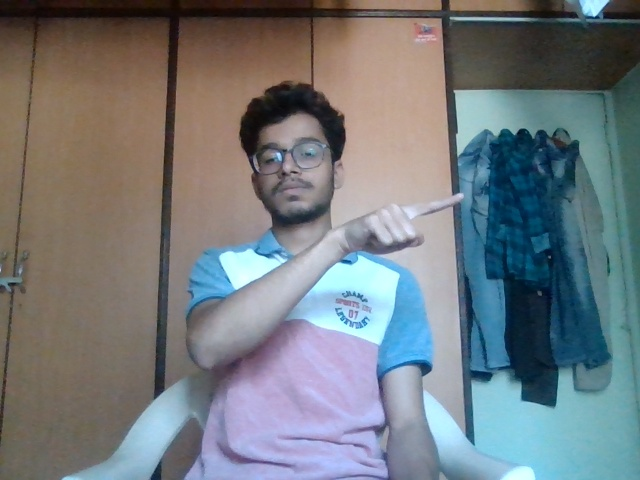you: (321, 186, 483, 263)
